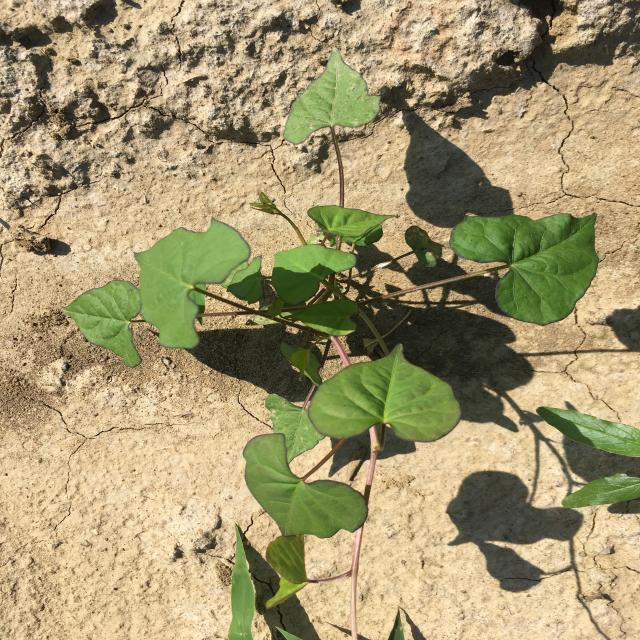MorningGlory: (62, 47, 600, 611)
